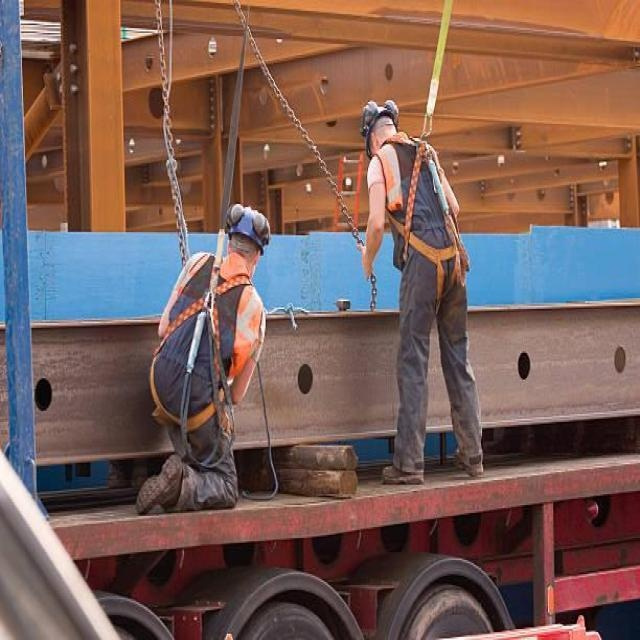Arnes_seguridad: (147, 249, 263, 435), (383, 131, 466, 315)
